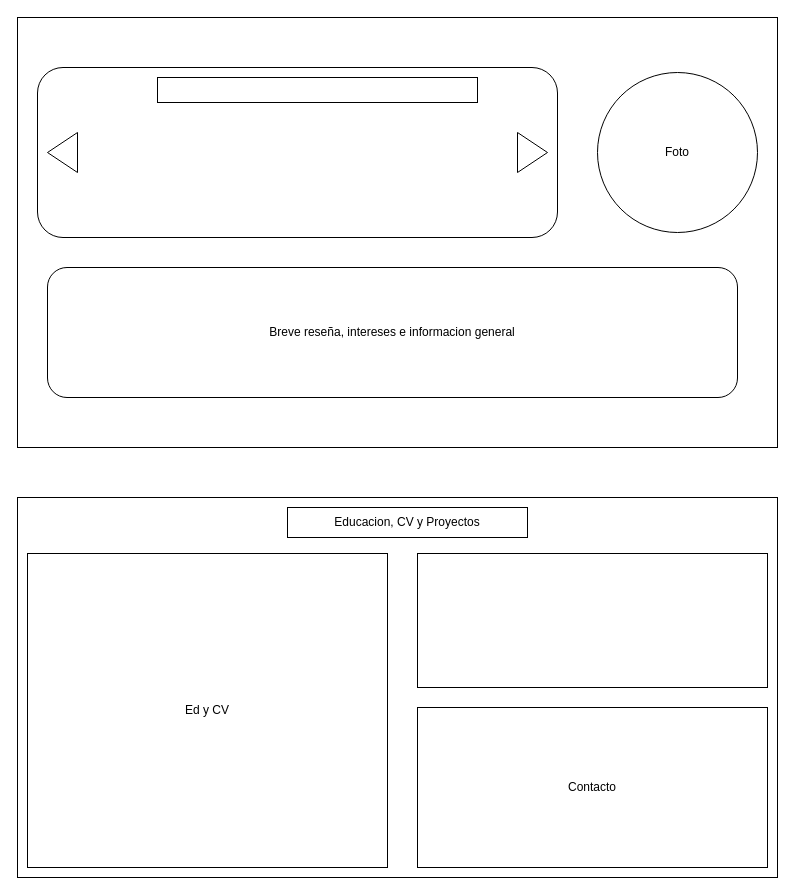
Some shapes in this 795 by 895 pixel diagram are drawn without their labels. Each missing label, with the centre of its shape:
Herramientas que manejo: point (317, 89)
Proyectos: point (592, 620)
